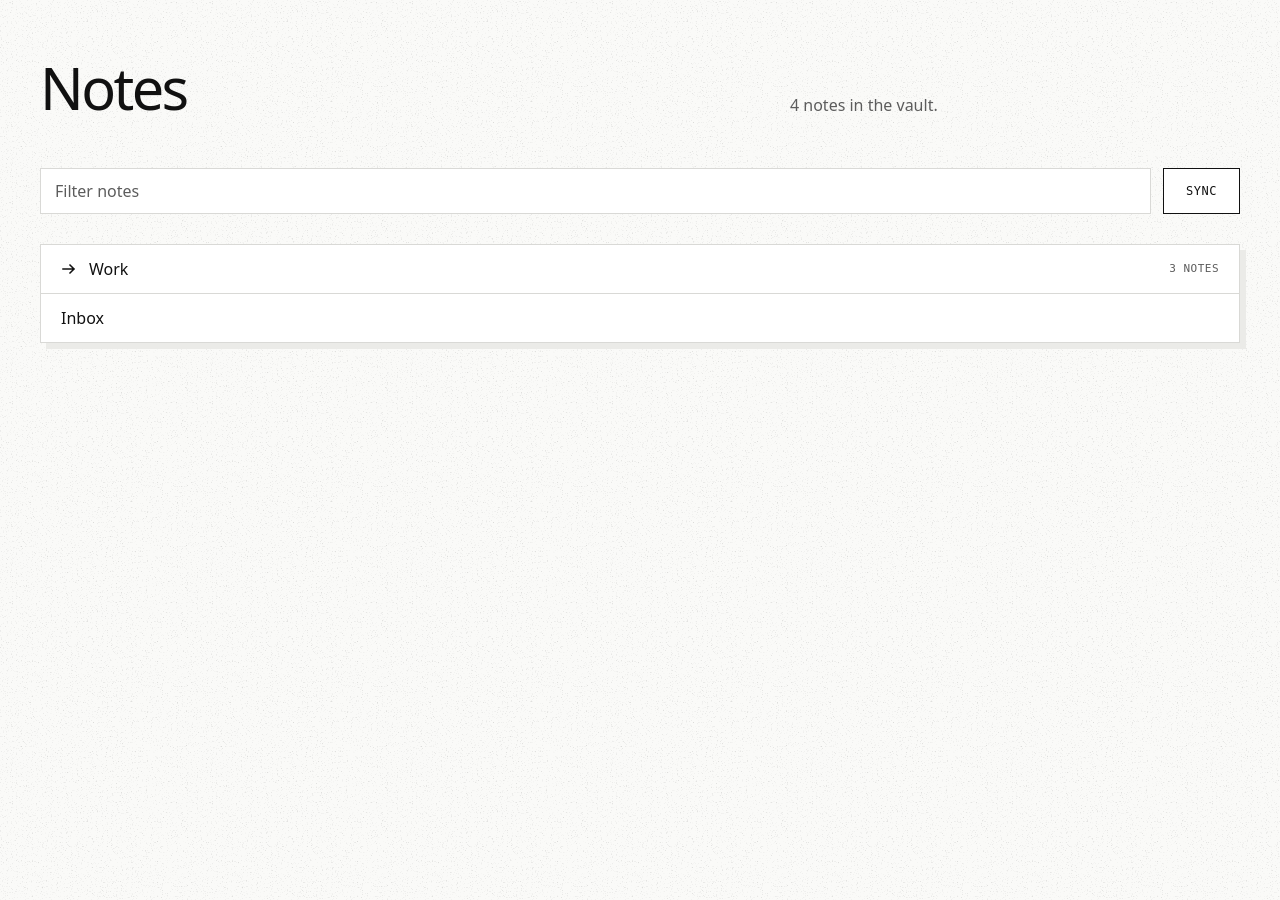
says when a sync fails, and keeps the list
The width and height of the screenshot is (1280, 900).
Check: the text "4 notes in the vault." is shown, box 790,94 -> 938,116
Click the button "Sync" at (1201, 191), box 1163,168 -> 1240,214
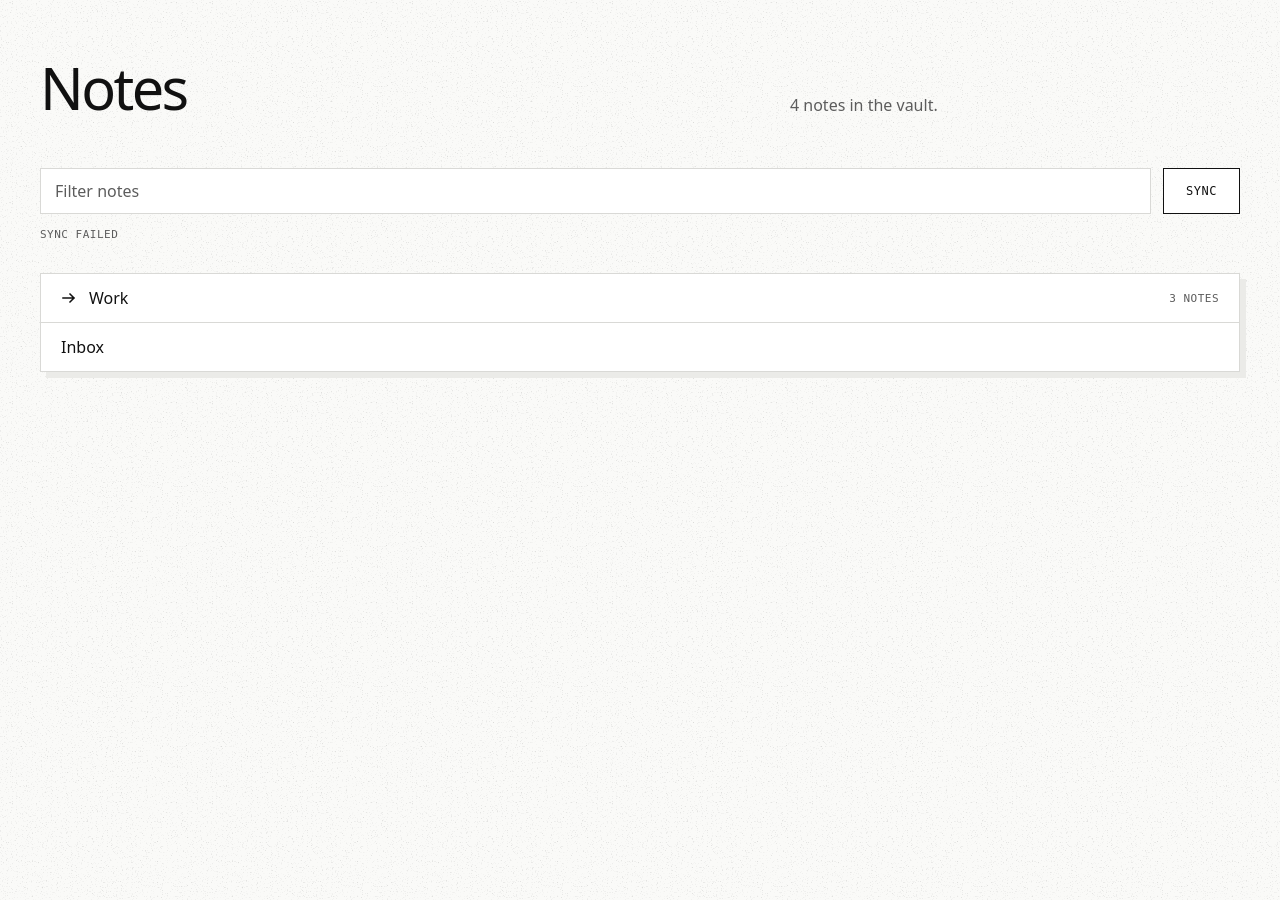
Check: the text "4 notes in the vault." is shown, box 790,94 -> 938,116
Check: the text "Sync failed" is shown, box 40,228 -> 118,241
